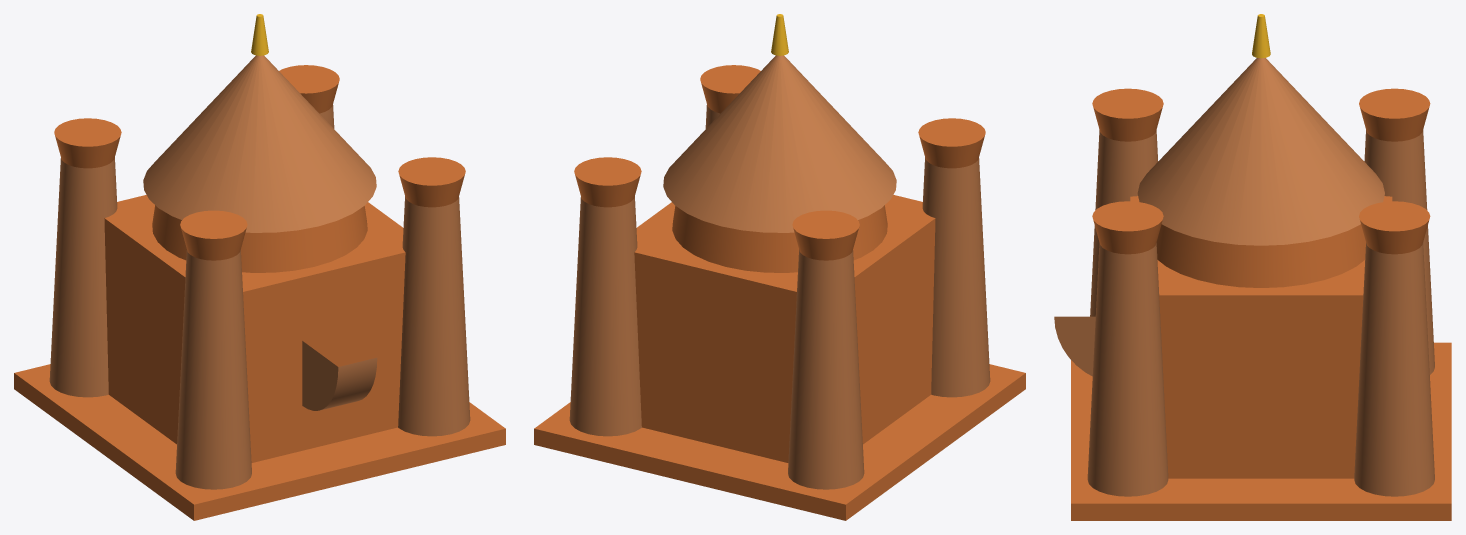
File: aisha-bibi.glb
3 views of the same model, side by side, from view 1: azimuth 30°, elevation 25°; view 2: azimuth 150°, elevation 25°; view 3: azimuth 270°, elevation 25° (orthographic). The views are drawn at different scales.
Size of the model in its own units: 16 by 19.7 by 16.7.
